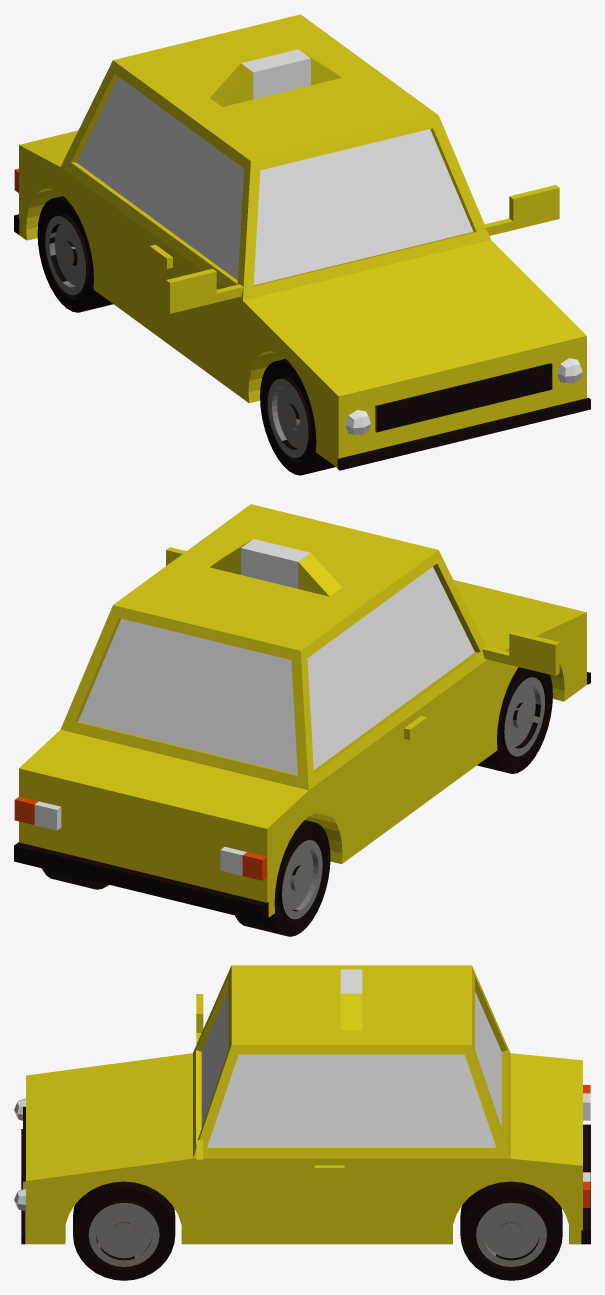
Rendered from YELLOWCAR.fbx.
3 views of the same model, one above another, from view 1: azimuth 30°, elevation 25°; view 2: azimuth 150°, elevation 25°; view 3: azimuth 270°, elevation 25° (orthographic). The views are drawn at different scales.
Parts seen in each view (by area): view 1: Cube, Cube.001, Cube.006, Cube.005, Cube.002; view 2: Cube, Cube.001, Cube.006, Cube.005; view 3: Cube, Cube.005, Cube.006, Cube.001.
Boxes of the visible parts, <box> form: Cube: <box>19,14,586,467</box>; Cube.001: <box>14,168,559,432</box>; Cube.006: <box>37,196,113,312</box>; Cube.005: <box>260,359,335,475</box>; Cube.002: <box>337,398,590,470</box>; Cube: <box>19,504,586,917</box>; Cube.001: <box>14,547,559,922</box>; Cube.006: <box>42,820,330,936</box>; Cube.005: <box>477,667,552,773</box>; Cube: <box>26,965,582,1244</box>; Cube.005: <box>73,1181,175,1280</box>; Cube.006: <box>460,1181,562,1280</box>; Cube.001: <box>23,994,590,1244</box>.
Size of the model in its own units: 398 by 280 by 586.
